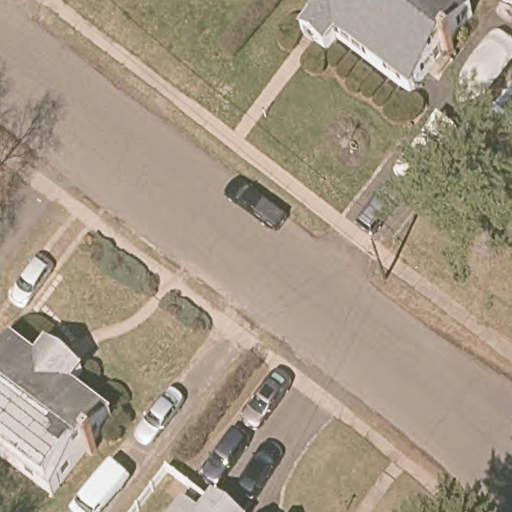DT: (362, 219, 390, 282)
